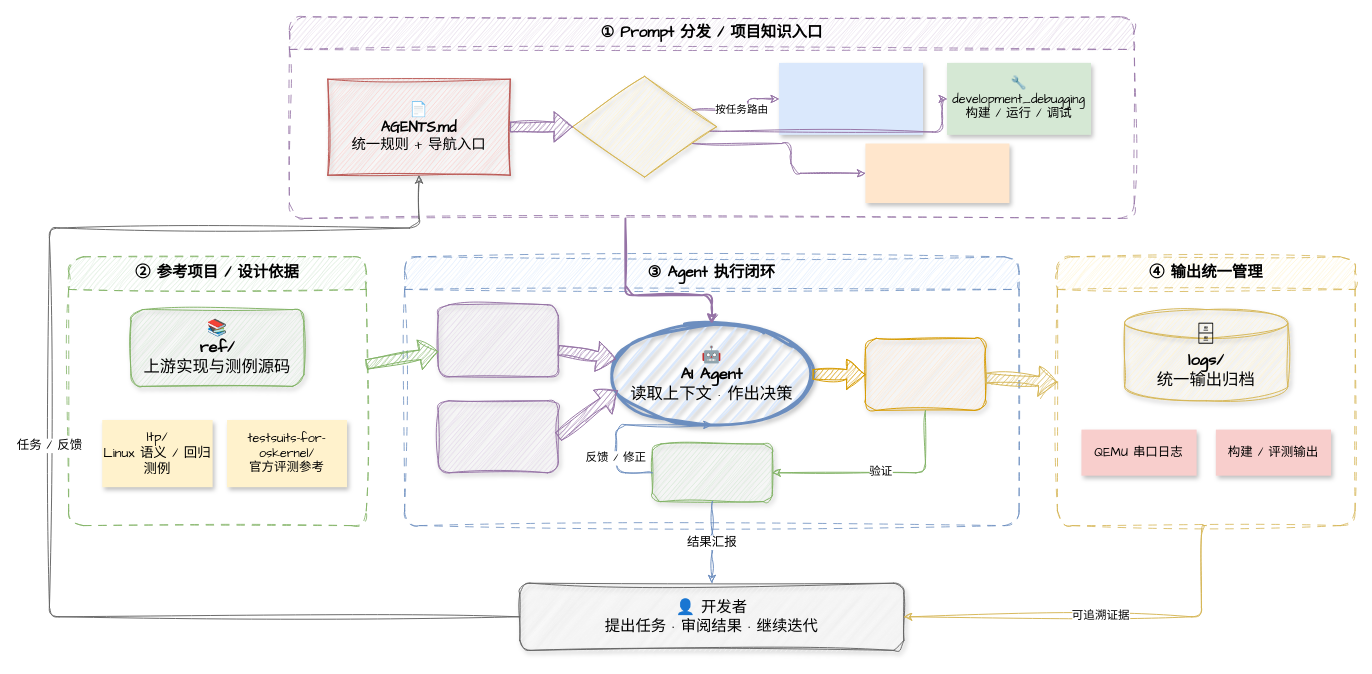
Some shapes in this 1372 by 674 pixel diagram are drawn without their labels. Here are the shapes that lost their labels. From the top down, the centre of each, then its label:
At (x=851, y=100): "🏗 project_architecture 架构 / 模块边界".
At (x=645, y=128): "任务类型 Prompt Router".
At (x=938, y=174): "☑ scoreboard 评测 / 状态协作".
At (x=498, y=342): "🔍 借鉴/分析".
At (x=926, y=375): "⌨ 修改项目代码".
At (x=498, y=438): "📄 plan_docs 任务下发".
At (x=713, y=473): "✓ 构建 / 窄验证".
